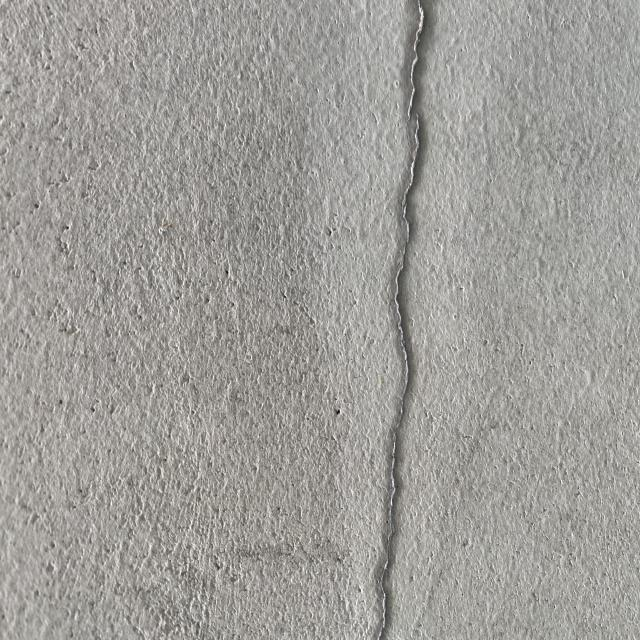SurfaceCrack: (321, 0, 483, 639)
